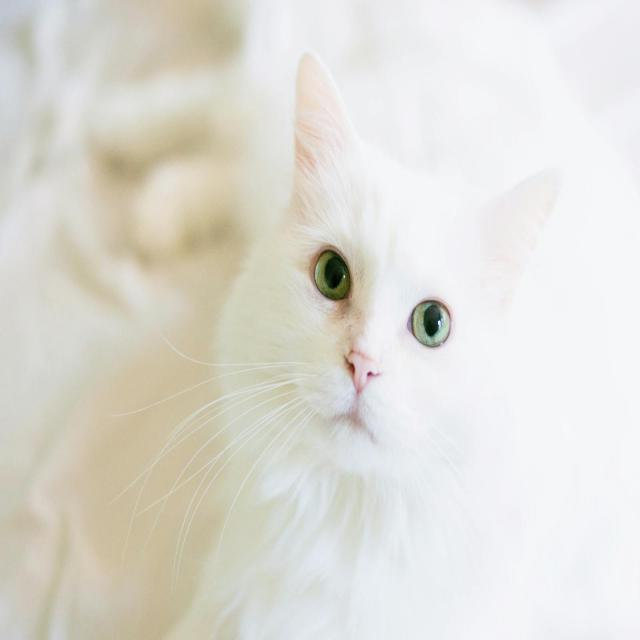Cat: (107, 49, 562, 637)
